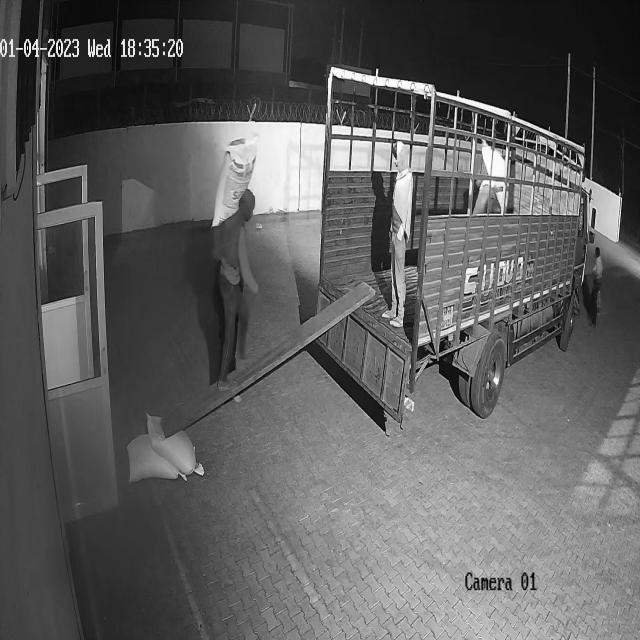sack: (210, 134, 258, 227), (145, 412, 203, 476), (127, 432, 185, 482), (481, 139, 510, 216)
